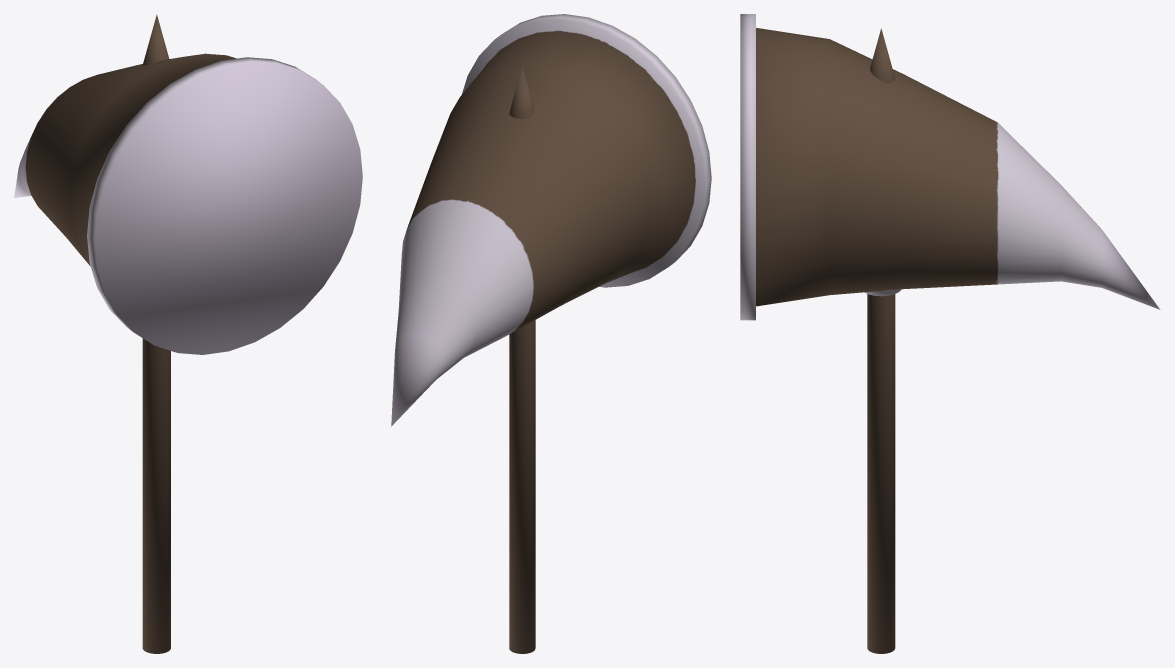
Rendered from hammer_of_justice_uv.obj.
3 renders of one model, left to right at view 1: azimuth 30°, elevation 25°; view 2: azimuth 150°, elevation 25°; view 3: azimuth 270°, elevation 25°, orthographic. The views are drawn at different scales.
Visible parts, largest first — view 1: hammner_of_justice; view 2: hammner_of_justice; view 3: hammner_of_justice.
Boxes of the visible parts, box(x1,y1,x2,y2) form: hammner_of_justice: box(14, 14, 362, 653); hammner_of_justice: box(391, 14, 711, 653); hammner_of_justice: box(740, 14, 1160, 653).
Bounding box in the file's own units: 2.17 × 4.9 × 3.01.
Materials: 1 (1 with a texture image).
